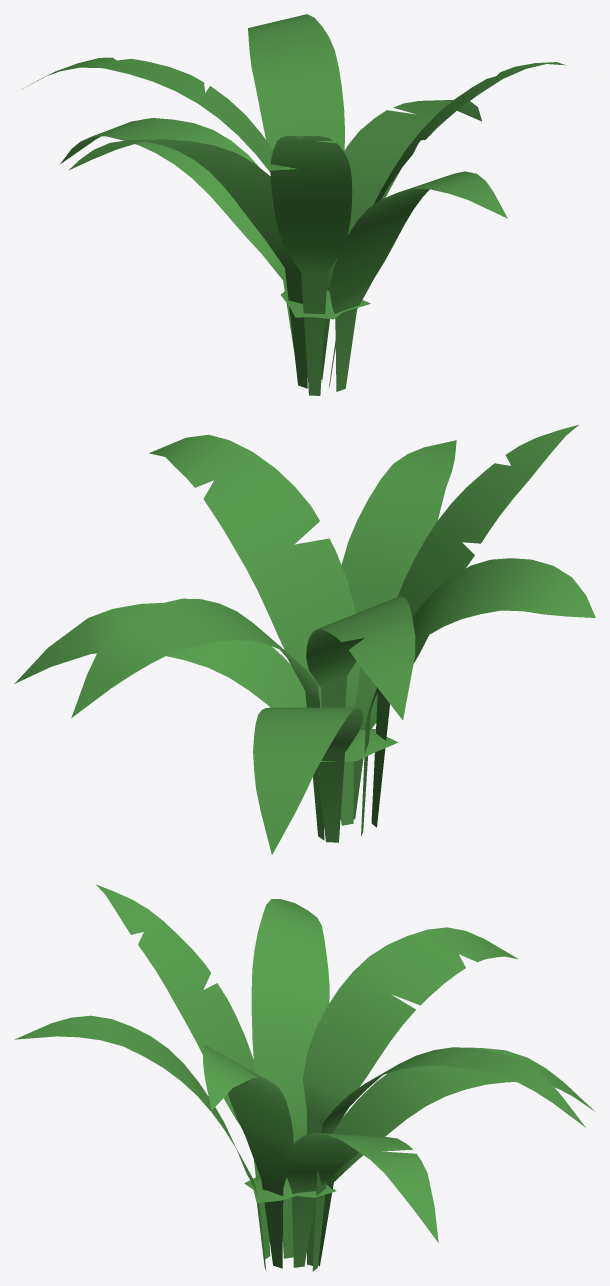
The model's file is plant_dracaena_A.fbx.
The picture shows the model from 3 angles, top to bottom: view 1: azimuth 30°, elevation 25°; view 2: azimuth 150°, elevation 25°; view 3: azimuth 270°, elevation 25°; orthographic projection. The views are drawn at different scales.
Parts seen in each view (by area): view 1: plant_dracaena_A_leaf_A, plant_dracaena_A_leaf_G, plant_dracaena_A_leaf_F, plant_dracaena_A_leaf_D, plant_dracaena_A_leaf_E, plant_dracaena_A_leaf_H, plant_dracaena_A_leaf_C, plant_dracaena_A_leaf_B, plant_dracaena_A_bud; view 2: plant_dracaena_A_leaf_B, plant_dracaena_A_leaf_F, plant_dracaena_A_leaf_H, plant_dracaena_A_leaf_A, plant_dracaena_A_leaf_G, plant_dracaena_A_leaf_D, plant_dracaena_A_leaf_C, plant_dracaena_A_leaf_E, plant_dracaena_A_bud; view 3: plant_dracaena_A_leaf_C, plant_dracaena_A_leaf_D, plant_dracaena_A_leaf_A, plant_dracaena_A_leaf_E, plant_dracaena_A_leaf_B, plant_dracaena_A_leaf_H, plant_dracaena_A_leaf_G, plant_dracaena_A_leaf_F, plant_dracaena_A_bud.
Part boxes in pixels (x1,y1,x2,y2): plant_dracaena_A_leaf_A: [270, 136, 352, 395]; plant_dracaena_A_leaf_G: [248, 14, 345, 169]; plant_dracaena_A_leaf_F: [329, 171, 507, 391]; plant_dracaena_A_leaf_D: [68, 139, 307, 388]; plant_dracaena_A_leaf_E: [321, 100, 481, 379]; plant_dracaena_A_leaf_H: [60, 118, 294, 351]; plant_dracaena_A_leaf_C: [17, 57, 284, 171]; plant_dracaena_A_leaf_B: [328, 62, 565, 388]; plant_dracaena_A_bud: [281, 289, 370, 319]; plant_dracaena_A_leaf_B: [149, 434, 360, 825]; plant_dracaena_A_leaf_F: [341, 440, 456, 819]; plant_dracaena_A_leaf_H: [253, 707, 362, 854]; plant_dracaena_A_leaf_A: [371, 424, 578, 827]; plant_dracaena_A_leaf_G: [71, 598, 324, 840]; plant_dracaena_A_leaf_D: [361, 558, 595, 836]; plant_dracaena_A_leaf_C: [306, 596, 415, 720]; plant_dracaena_A_leaf_E: [14, 603, 306, 707]; plant_dracaena_A_bud: [321, 729, 398, 761]; plant_dracaena_A_leaf_C: [303, 927, 518, 1265]; plant_dracaena_A_leaf_D: [251, 899, 329, 1258]; plant_dracaena_A_leaf_A: [96, 884, 270, 1259]; plant_dracaena_A_leaf_E: [284, 1133, 438, 1267]; plant_dracaena_A_leaf_B: [203, 1045, 293, 1268]; plant_dracaena_A_leaf_H: [318, 1047, 594, 1266]; plant_dracaena_A_leaf_G: [312, 1047, 585, 1271]; plant_dracaena_A_leaf_F: [14, 1015, 266, 1270]; plant_dracaena_A_bud: [244, 1177, 336, 1203].
Bounding box in the file's own units: 111 × 75.85 × 123.
